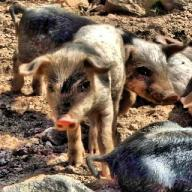boar: (85, 120, 191, 192)
